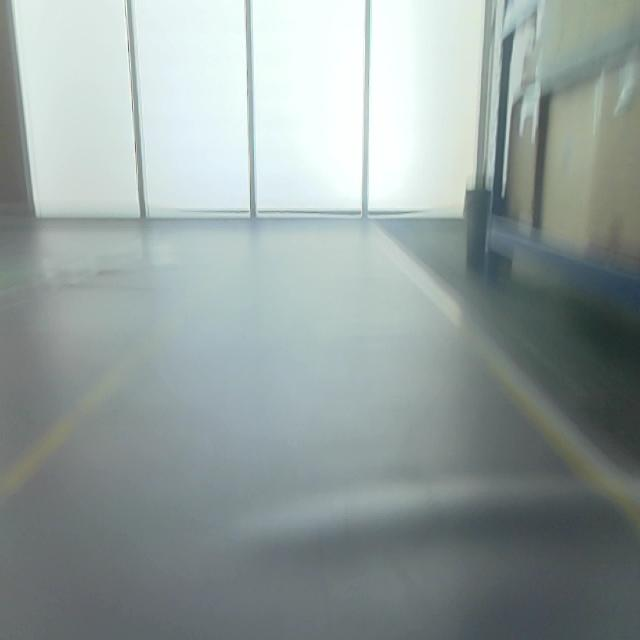left_lane: (0, 311, 182, 510)
right_lane: (378, 233, 640, 528)
